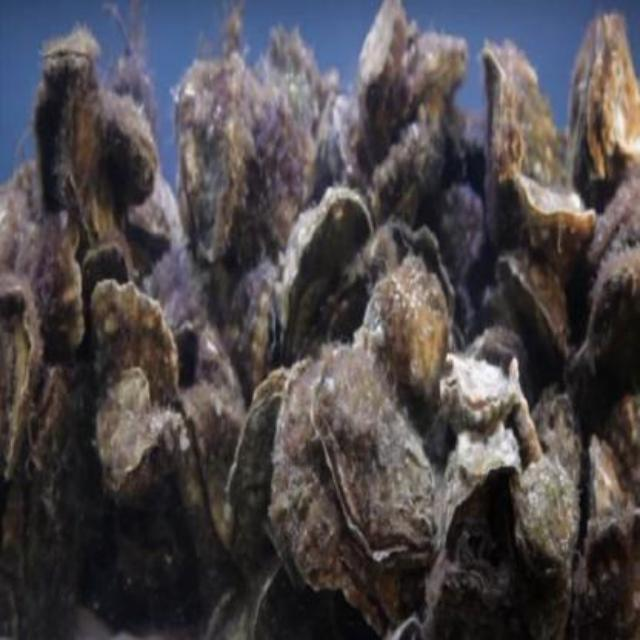Oyster-Closed: (278, 360, 407, 626), (308, 342, 437, 563), (0, 358, 91, 638), (275, 184, 379, 373), (481, 45, 570, 259), (59, 72, 142, 279), (225, 366, 289, 572), (175, 50, 237, 255), (433, 423, 522, 564), (364, 255, 451, 394), (570, 13, 638, 188), (91, 289, 179, 417), (11, 217, 82, 363), (495, 241, 571, 359), (510, 454, 579, 583), (381, 37, 470, 129), (512, 180, 594, 278), (218, 264, 278, 390), (99, 370, 160, 492), (0, 290, 39, 480), (100, 92, 156, 214), (440, 351, 515, 435), (426, 188, 484, 280), (360, 0, 405, 102), (589, 435, 634, 526), (605, 399, 638, 500), (41, 35, 96, 81)
Oyster-Open: (357, 226, 460, 347)
